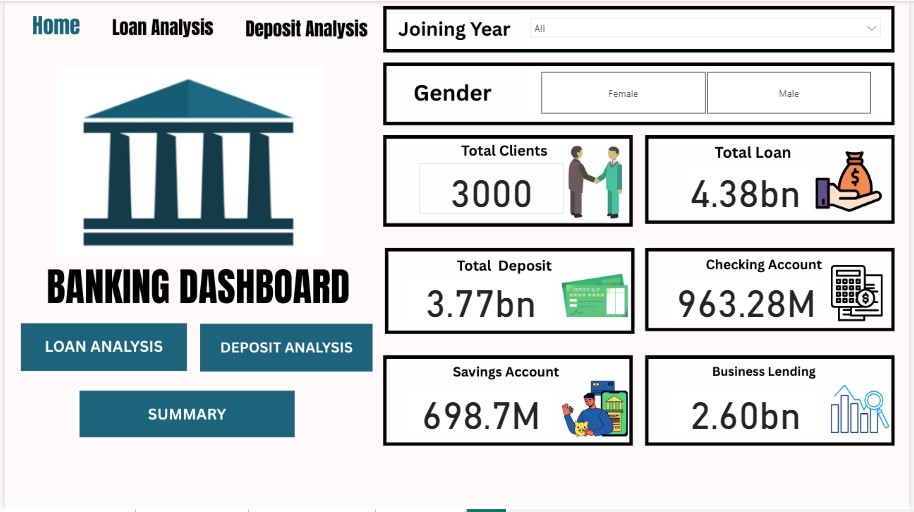

What the dashboard file says about the page in this screenshot:
{"tool":"powerbi","page":{"name":"Banking Landing page","canvas":[1280,720],"ordinal":0},"visuals":[{"type":"card","fields":{"Values":["CountNonNull(Banking.Name)"]},"box":[587.1,230,205.7,71.4],"z":0},{"type":"slicer","fields":{"Values":["Banking.GenderId"]},"box":[734.5,93.7,517.3,73.3],"z":1000},{"type":"card","fields":{"Values":["Banking.Total Loan"]},"box":[960,232.9,180,65.7],"z":2000},{"type":"card","fields":{"Values":["Banking.Total Deposit"]},"box":[572.9,388.6,204.3,67.1],"z":3000},{"type":"slicer","fields":{"Values":["Banking.Year"]},"box":[734.5,13.6,517.3,52.9],"z":4000},{"type":"card","fields":{"Values":["Sum(Banking.Checking Accounts)"]},"box":[945.7,388.6,210,67.1],"z":5000},{"type":"card","fields":{"Values":["Sum(Banking.Saving Accounts)"]},"box":[572.9,545.7,204.3,68.6],"z":6000},{"type":"card","fields":{"Values":["Sum(Banking.Business Lending)"]},"box":[944.3,545.7,211.4,68.6],"z":7000},{"type":"actionButton","box":[25.8,424.9,233.5,73.3],"z":8000},{"type":"actionButton","box":[271.5,422.2,247.1,73.3],"z":9000},{"type":"actionButton","box":[120.8,520,308.2,62.5],"z":10000},{"type":"actionButton","box":[121.4,14.3,195.7,47.1],"z":11000},{"type":"actionButton","box":[322.9,15.7,195.7,47.1],"z":12000}]}

Visuals, with their boxes in screenshot pixels (x1, y1, x2, y2), scaled from the page's 1280x720 canvas onto the 914x512 screenshot:
card - CountNonNull(Banking.Name): rect(419, 164, 566, 214)
slicer - Banking.GenderId: rect(524, 67, 894, 119)
card - Banking.Total Loan: rect(686, 166, 814, 212)
card - Banking.Total Deposit: rect(409, 276, 555, 324)
slicer - Banking.Year: rect(524, 10, 894, 47)
card - Sum(Banking.Checking Accounts): rect(675, 276, 825, 324)
card - Sum(Banking.Saving Accounts): rect(409, 388, 555, 437)
card - Sum(Banking.Business Lending): rect(674, 388, 825, 437)
actionButton: rect(18, 302, 185, 354)
actionButton: rect(194, 300, 370, 352)
actionButton: rect(86, 370, 306, 414)
actionButton: rect(87, 10, 226, 44)
actionButton: rect(231, 11, 370, 45)
